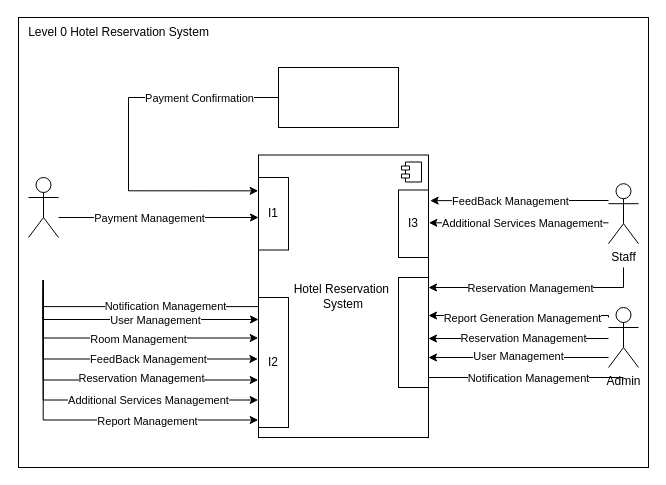
The diagram is 666 pixels wide and 485 high, and some of its shapes have lost their labels. The box of each missing label's shape, as (x1, y1, x2, y2) in pixels:
<<Finance Repo System>>: (278, 66, 398, 128)
Customer: (28, 176, 58, 238)
I4: (398, 276, 428, 388)
